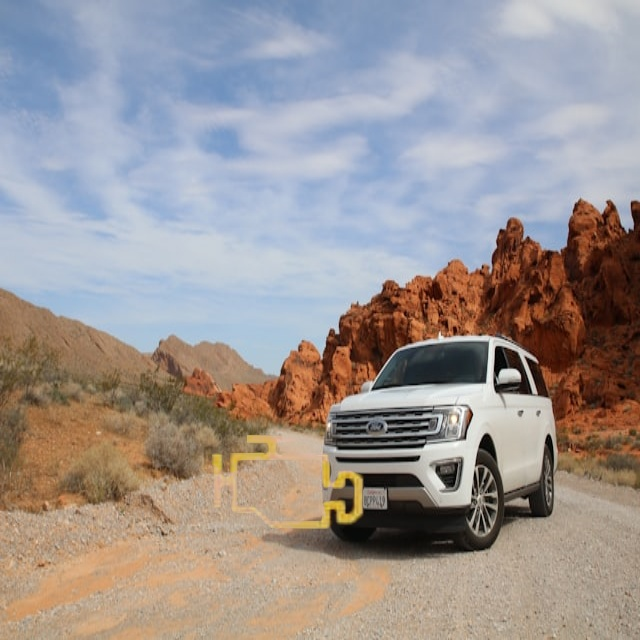symbol: (176, 373, 396, 593)
